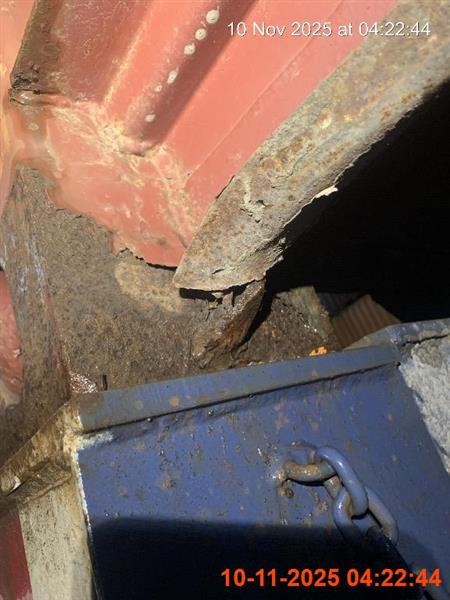hole: (0, 0, 401, 401)
